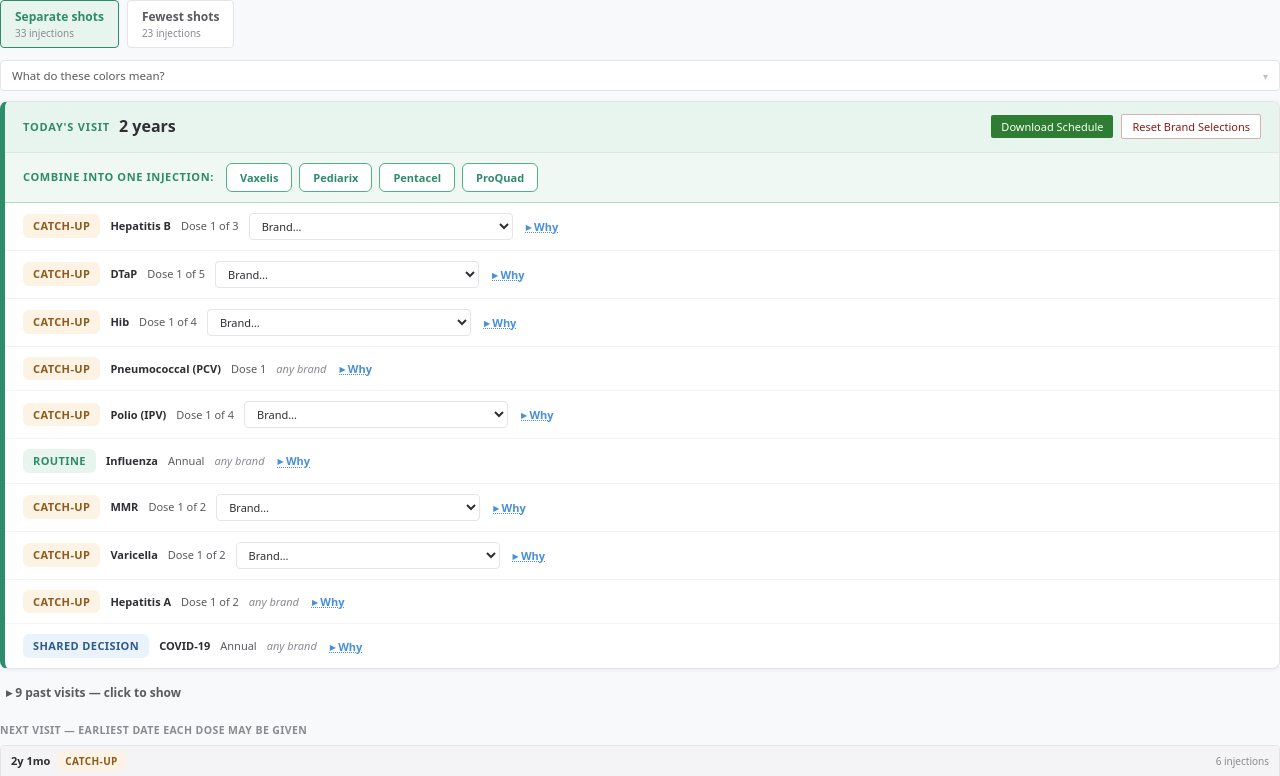
ForecastTab — visit-card list is the default view › clicking "N past visits — click to show" reveals past visit cards without needing "Show full forecast" too
The image size is (1280, 776).
Step 1. Click the button "▸ 9 past visits — click to show" → {"x": 94, "y": 692}, box top-left (0, 681), bottom-right (1279, 704)
(page scrolled)
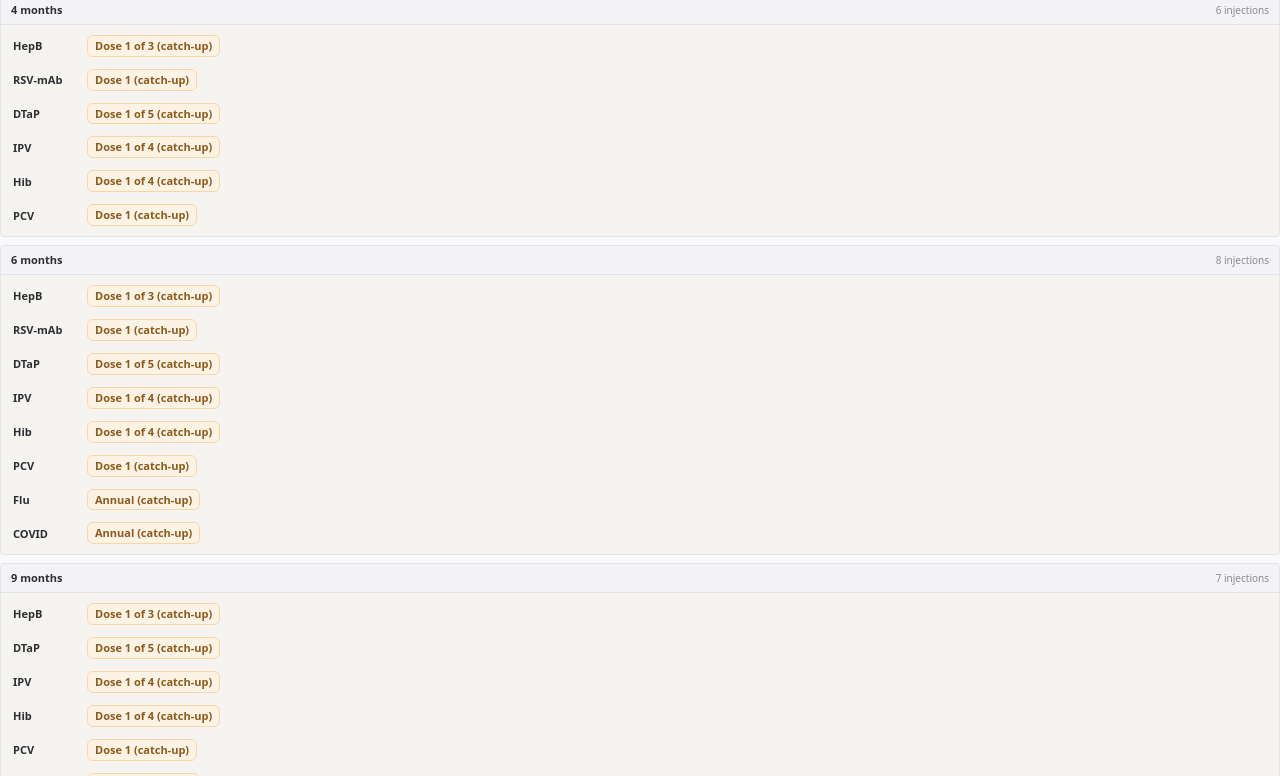
expect the element that starts with "6 months" is shown: met, box top-left (0, 245), bottom-right (1279, 555)
